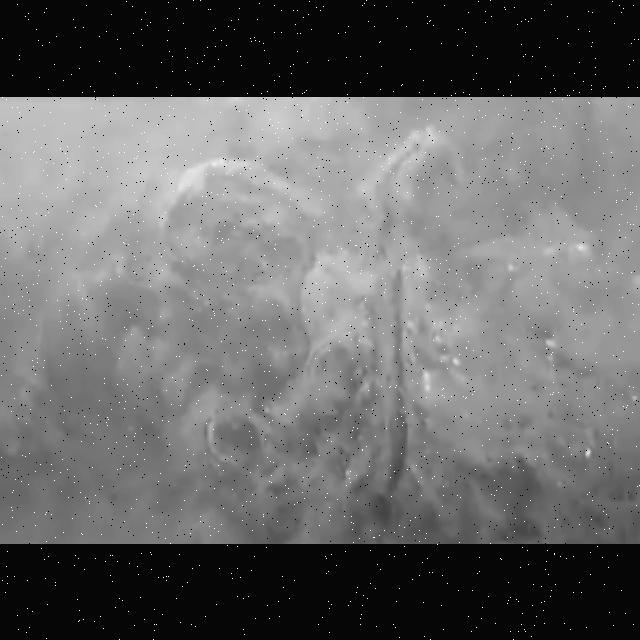Oyster-Closed: (155, 156, 319, 374)
Oyster-Open: (368, 250, 434, 502), (356, 124, 466, 266), (197, 399, 291, 481), (300, 332, 364, 421)
